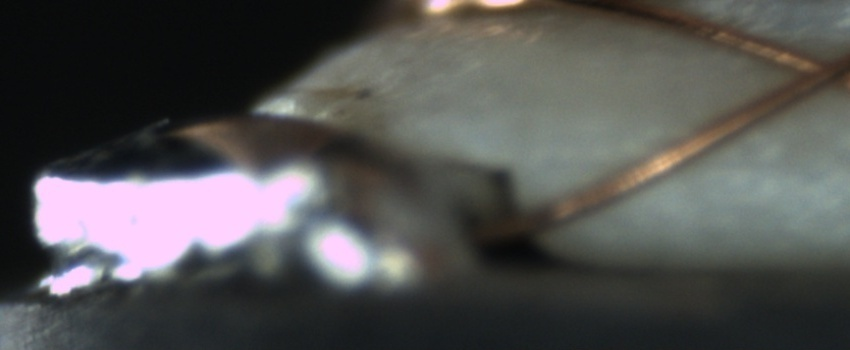CL: (768, 39, 849, 102)
